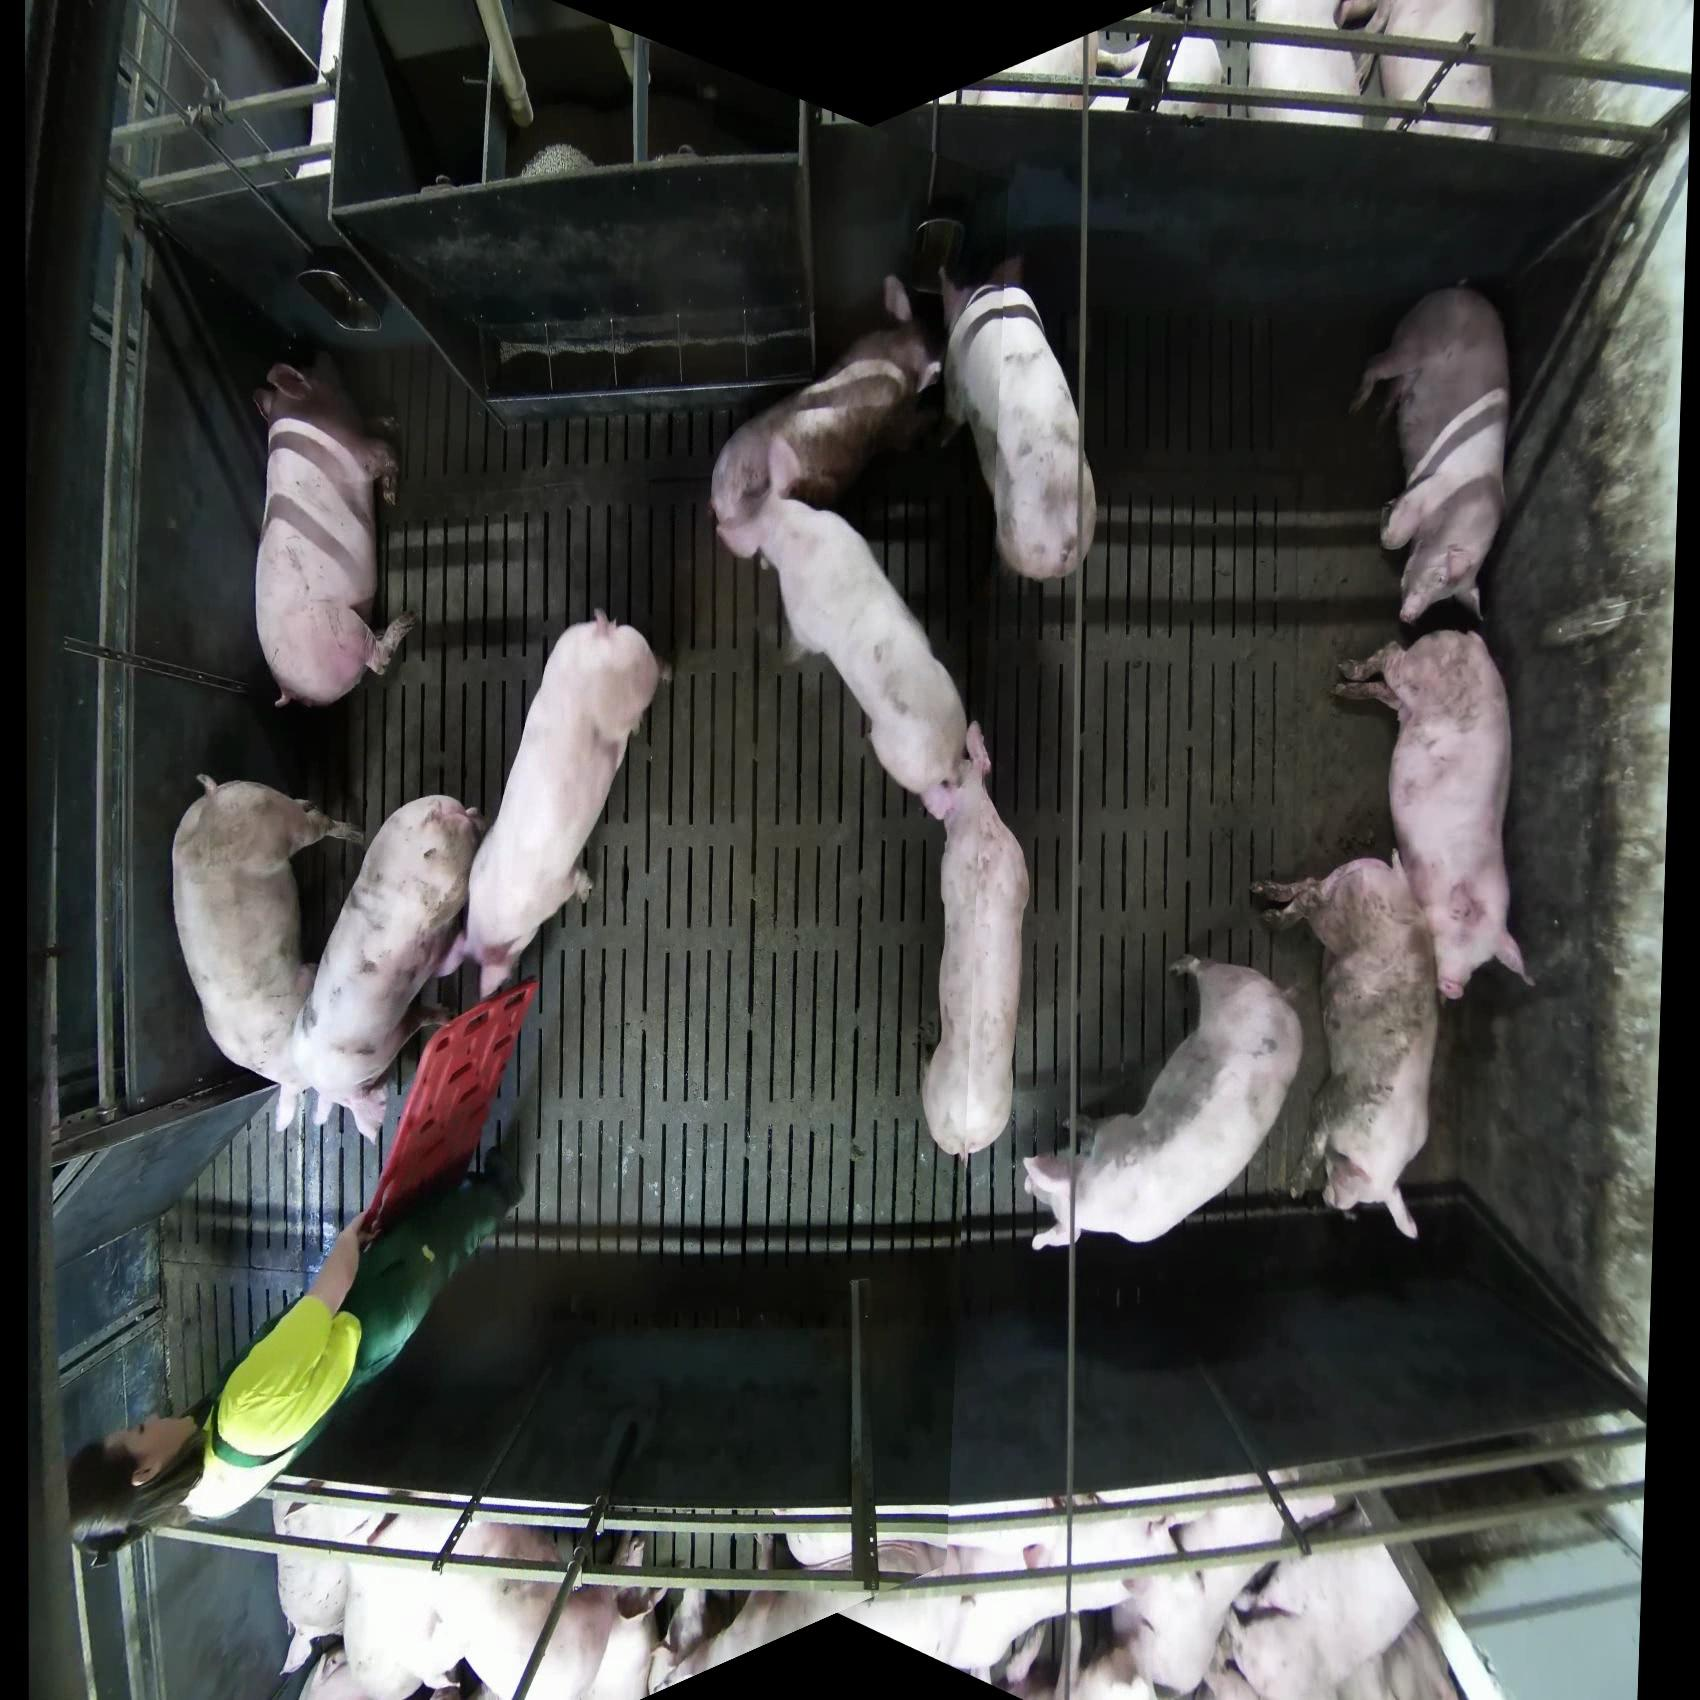pig: (708, 275, 977, 821), (438, 609, 662, 1004), (1020, 954, 1304, 1252), (1331, 628, 1536, 1003), (1250, 852, 1441, 1240), (279, 793, 487, 1145), (170, 772, 365, 1131), (761, 496, 974, 821), (709, 274, 946, 561), (251, 349, 415, 711), (1348, 280, 1513, 627), (935, 249, 1099, 584), (1195, 1496, 1462, 1700), (921, 719, 1032, 1162), (780, 1531, 1052, 1677), (454, 1519, 662, 1699), (1335, 1, 1498, 142), (1248, 1, 1378, 128)
worker: (67, 975, 542, 1564), (68, 1203, 382, 1561)
